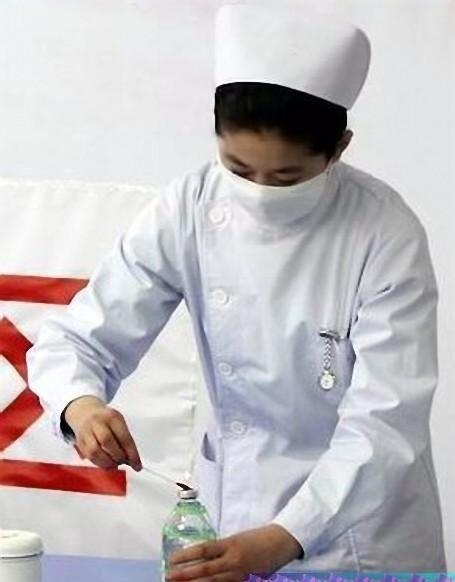OK: (222, 133, 330, 228)
